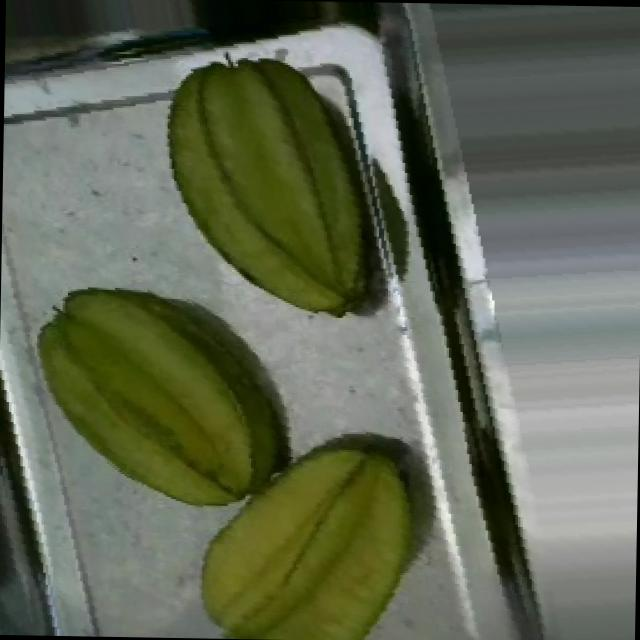fruit: (7, 255, 304, 540), (139, 35, 397, 343), (163, 413, 457, 640)
